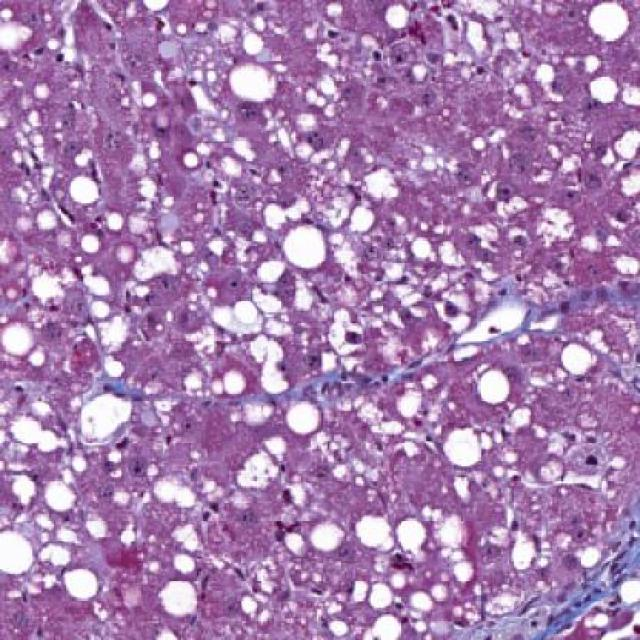fibrosis: (509, 544, 640, 638)
